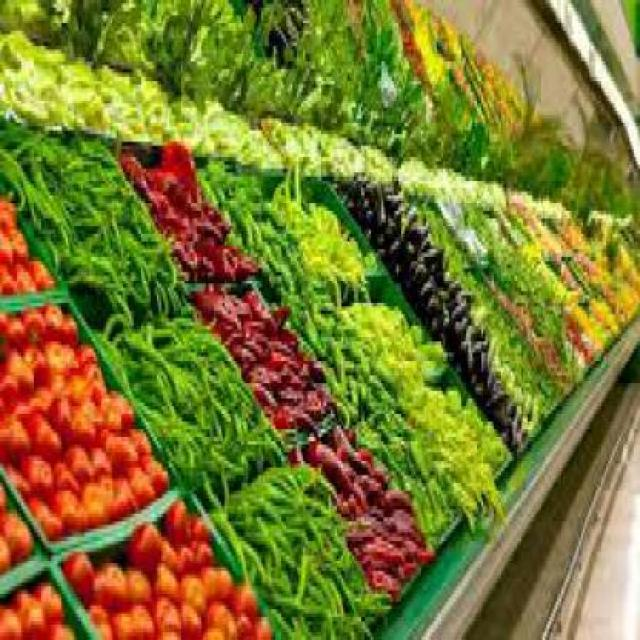BIODEGRADABLE: (42, 215, 176, 276), (210, 456, 322, 526), (280, 567, 386, 636), (222, 195, 312, 272), (80, 288, 202, 342), (261, 540, 356, 606), (222, 498, 335, 552), (242, 525, 343, 583), (0, 123, 102, 180), (193, 279, 289, 338), (511, 261, 566, 361), (244, 352, 333, 411), (287, 422, 368, 486), (293, 302, 375, 364), (224, 318, 318, 372), (154, 402, 260, 448), (118, 138, 197, 199), (15, 176, 127, 219), (437, 409, 501, 483), (144, 184, 231, 238), (138, 368, 239, 414), (333, 468, 409, 529), (345, 506, 430, 560), (194, 157, 260, 223), (264, 172, 336, 231), (343, 172, 415, 231), (115, 326, 216, 368), (339, 394, 418, 446), (375, 429, 440, 491), (454, 452, 504, 530), (297, 218, 369, 272), (168, 230, 258, 272), (316, 348, 390, 399), (398, 379, 468, 430), (254, 379, 320, 433), (400, 459, 448, 533), (273, 276, 338, 330), (342, 294, 406, 346), (392, 244, 450, 296), (372, 330, 443, 372), (445, 314, 493, 375), (540, 265, 588, 326), (419, 280, 473, 334), (178, 441, 267, 472), (369, 214, 433, 257), (512, 338, 551, 402), (496, 383, 532, 445), (464, 199, 501, 253), (0, 406, 31, 469), (12, 586, 50, 637), (470, 356, 508, 407), (464, 279, 501, 330), (490, 242, 530, 288), (93, 552, 127, 606), (362, 548, 401, 594), (20, 440, 52, 494), (445, 246, 477, 300), (60, 548, 92, 598), (1, 509, 32, 560), (103, 421, 134, 472), (78, 476, 112, 522), (10, 394, 44, 438), (50, 482, 84, 526), (124, 513, 156, 559), (105, 464, 136, 510), (582, 287, 615, 330), (98, 383, 132, 422), (50, 456, 81, 498), (202, 598, 236, 636), (29, 491, 57, 537), (562, 295, 583, 356), (136, 448, 166, 490), (496, 318, 522, 364), (68, 433, 90, 487), (575, 245, 602, 288), (70, 402, 96, 446), (122, 560, 148, 602), (555, 211, 583, 249), (154, 594, 178, 637), (429, 214, 453, 257), (515, 234, 542, 272), (34, 422, 60, 460), (149, 555, 176, 591), (108, 601, 135, 637), (166, 494, 188, 537), (178, 598, 202, 636), (48, 392, 70, 433), (598, 222, 619, 264), (176, 567, 199, 605), (127, 422, 148, 463), (2, 306, 24, 345), (129, 598, 151, 636), (82, 368, 104, 406), (606, 280, 628, 318), (91, 598, 112, 636), (415, 195, 437, 231), (12, 356, 32, 395), (568, 318, 588, 356), (215, 560, 233, 602), (155, 528, 174, 567), (42, 298, 62, 334), (542, 271, 562, 307), (188, 532, 206, 571), (24, 310, 44, 345), (26, 253, 48, 284), (90, 440, 108, 475), (623, 249, 639, 288), (13, 264, 36, 291), (51, 341, 78, 364), (8, 226, 28, 257), (0, 194, 14, 238), (57, 306, 74, 342), (32, 345, 48, 383), (233, 571, 249, 609), (0, 368, 17, 403), (176, 537, 190, 578), (64, 368, 82, 398), (0, 606, 17, 636), (186, 506, 202, 537), (51, 613, 72, 636), (250, 609, 267, 637), (235, 606, 250, 636), (198, 563, 212, 594), (4, 341, 18, 368), (0, 483, 9, 522), (0, 528, 9, 567), (0, 268, 14, 292), (622, 218, 636, 242), (0, 229, 9, 265), (79, 341, 93, 364)
